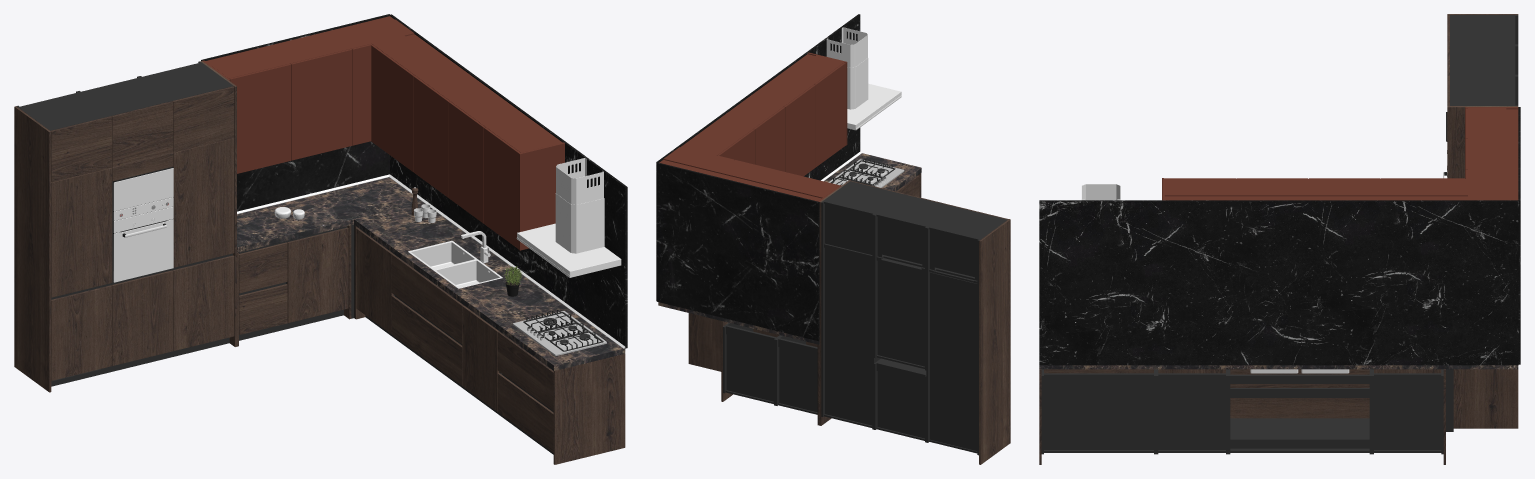
File: kitchen_type_3.glb
The picture shows the model from 3 angles, left to right: view 1: azimuth 30°, elevation 25°; view 2: azimuth 150°, elevation 25°; view 3: azimuth 270°, elevation 25°; orthographic projection. The views are drawn at different scales.
Visible parts, largest first — view 1: Fasad_1, Fasad_2, Fasad_4, Counter_top, Fasad_5, Apron_2, Fasad_3, Kitchen_box_3, Hood, Upper_box, Apron, Upper_box_2 (+7 smaller); view 2: Kitchen_box_3, Apron, Fasad_1, Fasad_4, Kitchen_box_1, Upper_box, Upper_box_2, Hood, Apron_2, Fasad_2, Counter_top, Ikea_gas (+1 smaller); view 3: Apron_2, Kitchen_box_2, Upper_box, Kitchen_box_3, Fasad_2, Upper_box_2, Fasad_3, Counter_top, Fasad_1, Apron, Hood, Kitchen_box_detail.
Boxes of the visible parts, box(x1,y1,x2,y2) form: Fasad_1: box(14, 61, 236, 392); Fasad_2: box(354, 225, 625, 464); Fasad_4: box(371, 45, 564, 250); Counter_top: box(237, 177, 625, 370); Fasad_5: box(202, 44, 372, 173); Apron_2: box(390, 14, 627, 348); Fasad_3: box(237, 225, 351, 346); Kitchen_box_3: box(16, 61, 233, 386); Hood: box(517, 158, 621, 277); Upper_box: box(372, 34, 562, 152); Apron: box(201, 14, 389, 211); Upper_box_2: box(205, 16, 414, 78); Kitchen_box_3: box(821, 181, 1007, 455); Apron: box(656, 162, 819, 340); Fasad_1: box(819, 180, 1010, 464); Fasad_4: box(717, 52, 847, 176); Kitchen_box_1: box(723, 323, 817, 414); Upper_box: box(680, 54, 844, 155); Upper_box_2: box(659, 147, 838, 201); Hood: box(826, 27, 901, 130); Apron_2: box(656, 14, 860, 300); Fasad_2: box(688, 173, 921, 371); Counter_top: box(658, 153, 921, 344); Ikea_gas: box(828, 158, 904, 187); Apron_2: box(1039, 200, 1518, 365); Kitchen_box_2: box(1041, 369, 1443, 454); Upper_box: box(1164, 179, 1467, 200); Kitchen_box_3: box(1450, 15, 1518, 105); Fasad_2: box(1039, 369, 1445, 464); Upper_box_2: box(1468, 108, 1518, 200); Fasad_3: box(1453, 369, 1518, 428); Counter_top: box(1039, 365, 1518, 369); Fasad_1: box(1447, 14, 1518, 178); Apron: box(1518, 107, 1520, 364); Hood: box(1081, 184, 1120, 200); Kitchen_box_detail: box(1446, 369, 1453, 431).
Size of the model in its own units: 3.7 by 2.44 by 4.02.
Materials: 47 (12 with a texture image).
